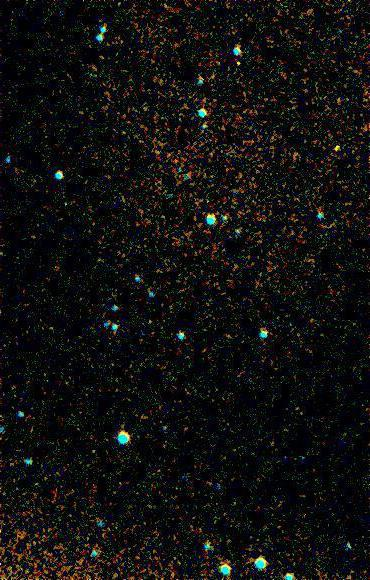star: (322, 134, 352, 164)
